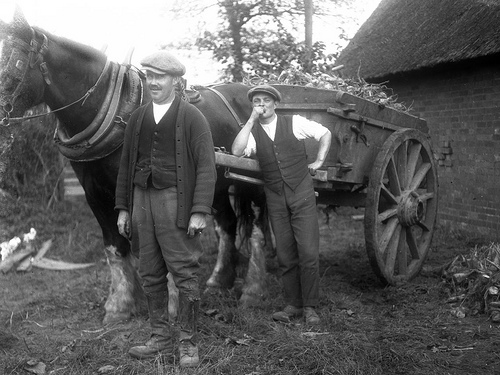horse: (1, 8, 274, 330)
